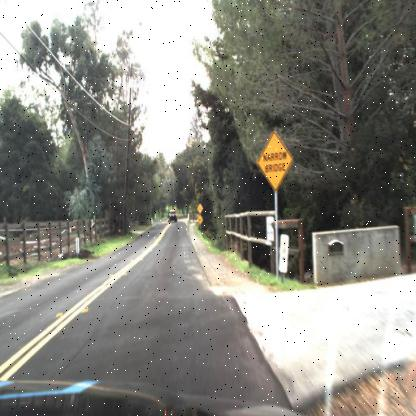car: (167, 208, 179, 223)
